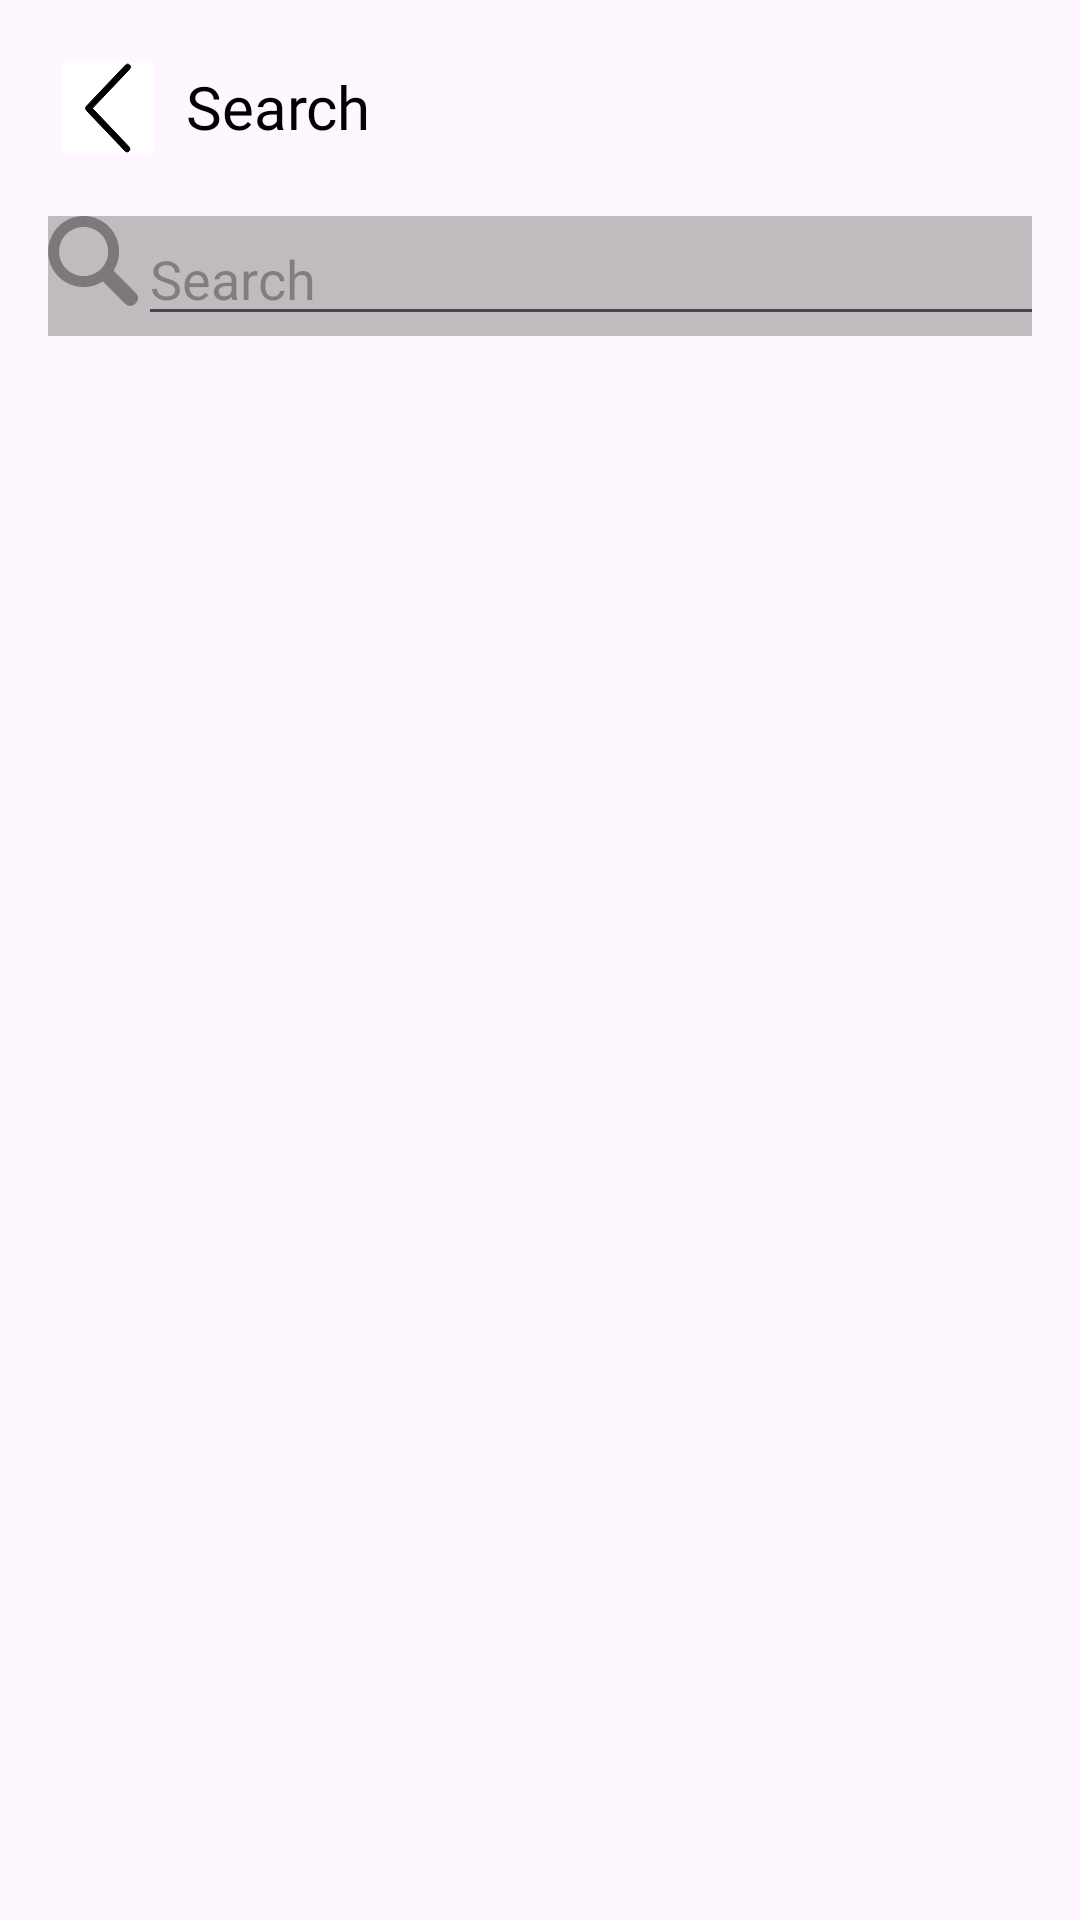

Icon click points for this 1080w x 1920h phone screenshot, format (x,y):
arrow left: (108,108)
mag glass: (93,261)
